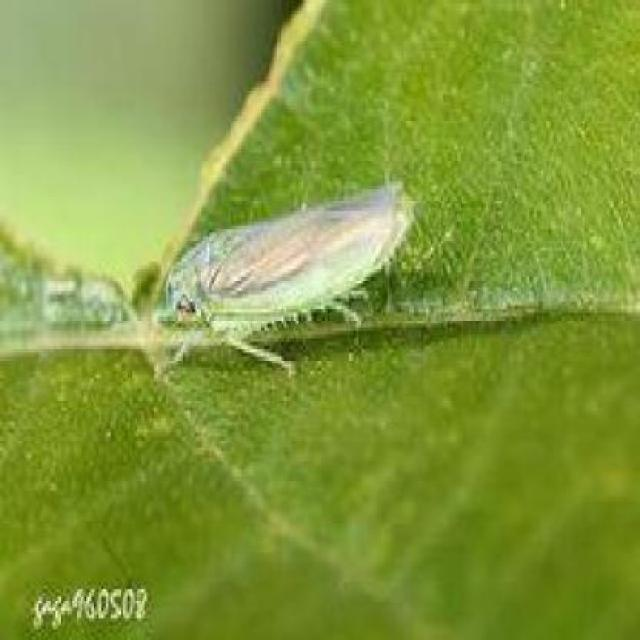green-leafhopper: (157, 189, 415, 377)
